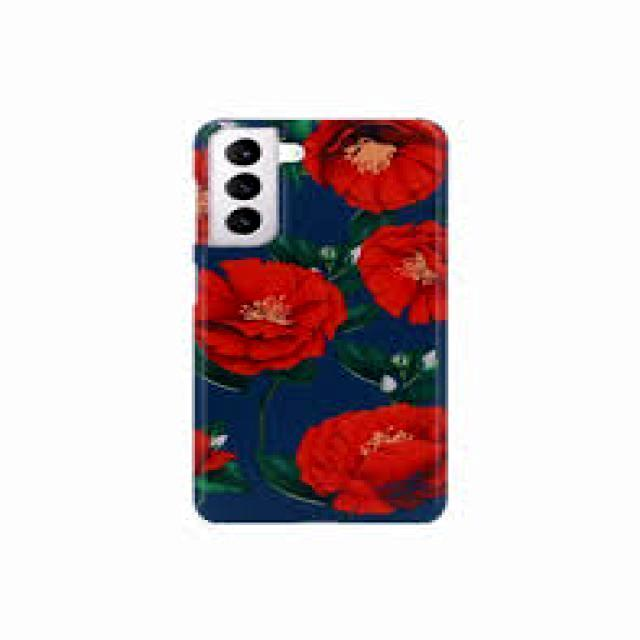lens_back: (218, 197, 273, 239), (215, 164, 269, 206), (215, 132, 267, 174)
phone: (186, 107, 457, 533)
